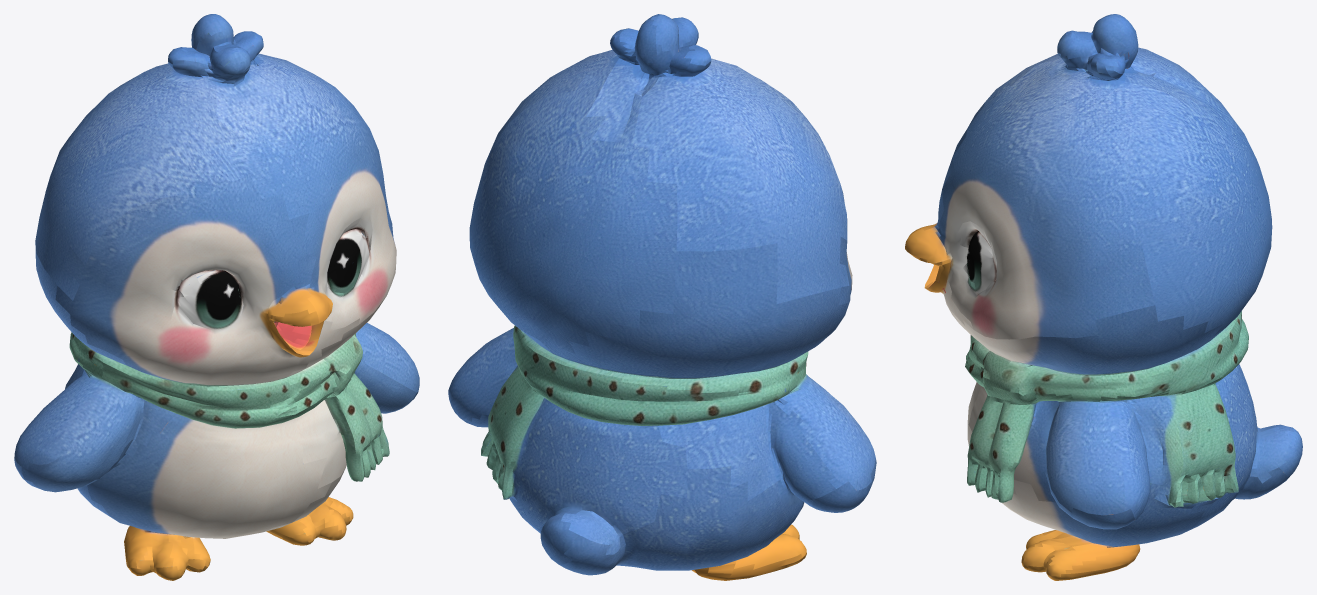
The model's file is asset_model_urls_glb.glb.
The picture shows the model from 3 angles, left to right: view 1: azimuth 30°, elevation 25°; view 2: azimuth 150°, elevation 25°; view 3: azimuth 270°, elevation 25°; orthographic projection. The views are drawn at different scales.
Size of the model in its own units: 1.5 by 1.9 by 1.32.
Materials: 1 (1 with a texture image).
